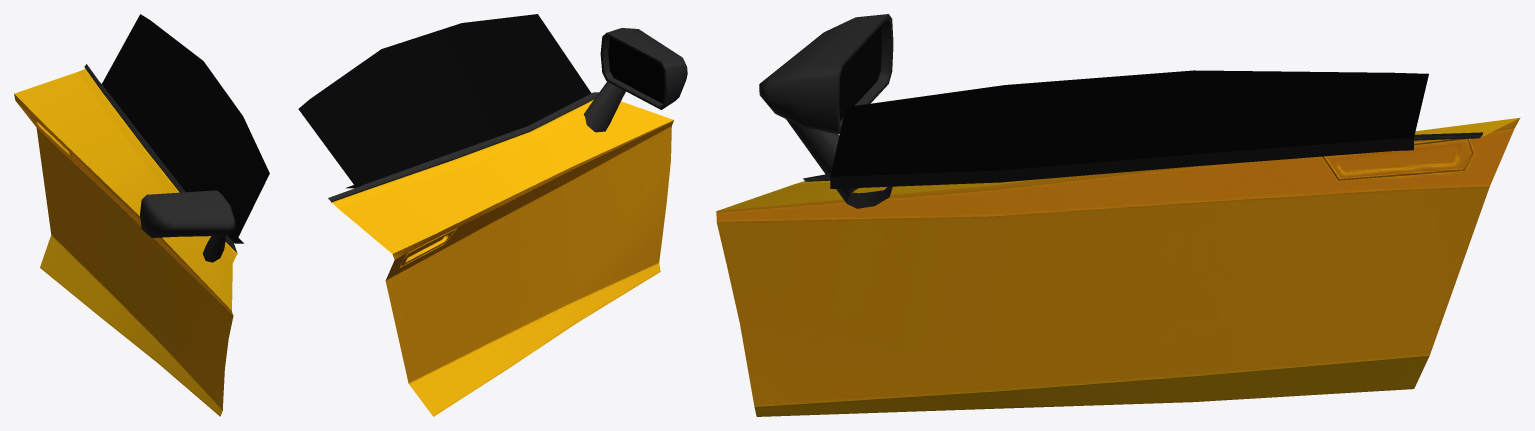
Rendered from Lamborginhi_Aventador_door2.obj.
3 renders of one model, left to right at view 1: azimuth 30°, elevation 25°; view 2: azimuth 150°, elevation 25°; view 3: azimuth 270°, elevation 25°, orthographic. The views are drawn at different scales.
Visible parts, largest first — view 1: Lamborghini_Aventador:Body.002_Lamborghini_Aventador:Body.009; view 2: Lamborghini_Aventador:Body.002_Lamborghini_Aventador:Body.009; view 3: Lamborghini_Aventador:Body.002_Lamborghini_Aventador:Body.009.
Part boxes in pixels (x1,y1,x2,y2): Lamborghini_Aventador:Body.002_Lamborghini_Aventador:Body.009: (14,14,269,416); Lamborghini_Aventador:Body.002_Lamborghini_Aventador:Body.009: (298,14,687,416); Lamborghini_Aventador:Body.002_Lamborghini_Aventador:Body.009: (716,14,1520,416).
Bounding box in the file's own units: 0.5714 × 0.8681 × 1.44.
2 materials, 1 textured.
